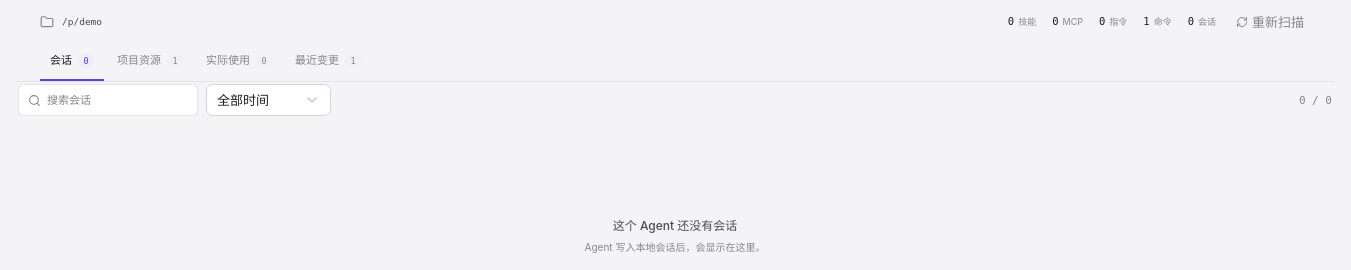
shows project commands and recent project activity
Step 1. Click the tab "项目资源 1" → [150, 62], box x1=107 y1=43 x2=193 y2=81
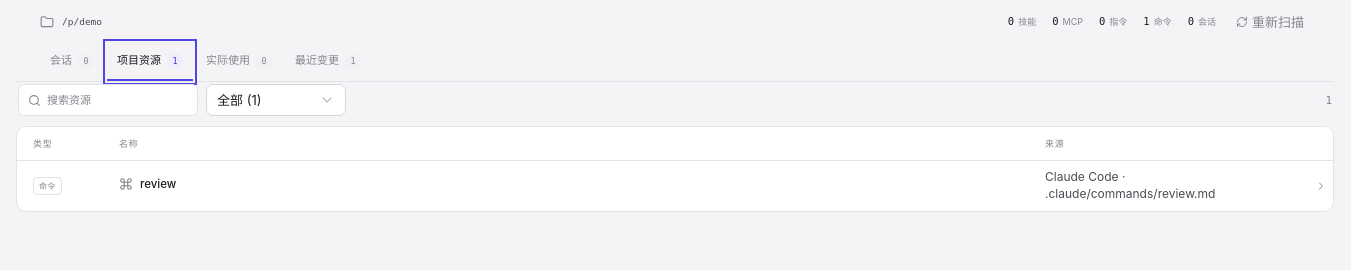
Expected: the text "review" is shown, x1=119 y1=176 x2=176 y2=192
Step 2. Click the tab "最近变更 1" → [328, 62], box x1=285 y1=43 x2=371 y2=81
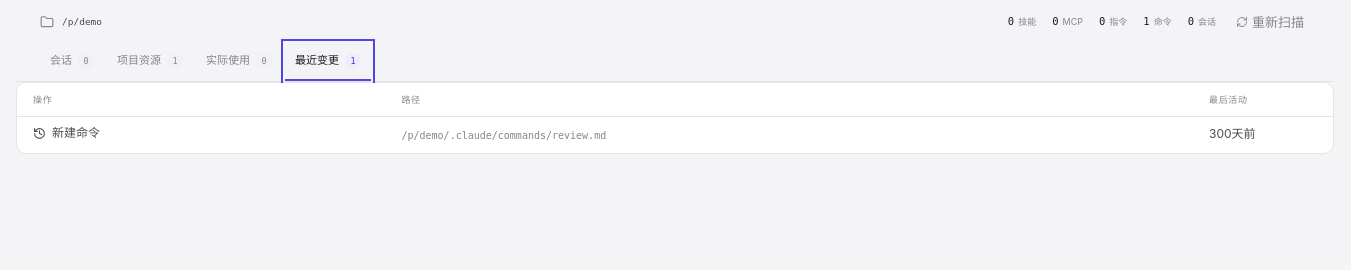
Expected: the text "新建命令" is shown, x1=33 y1=125 x2=100 y2=142
